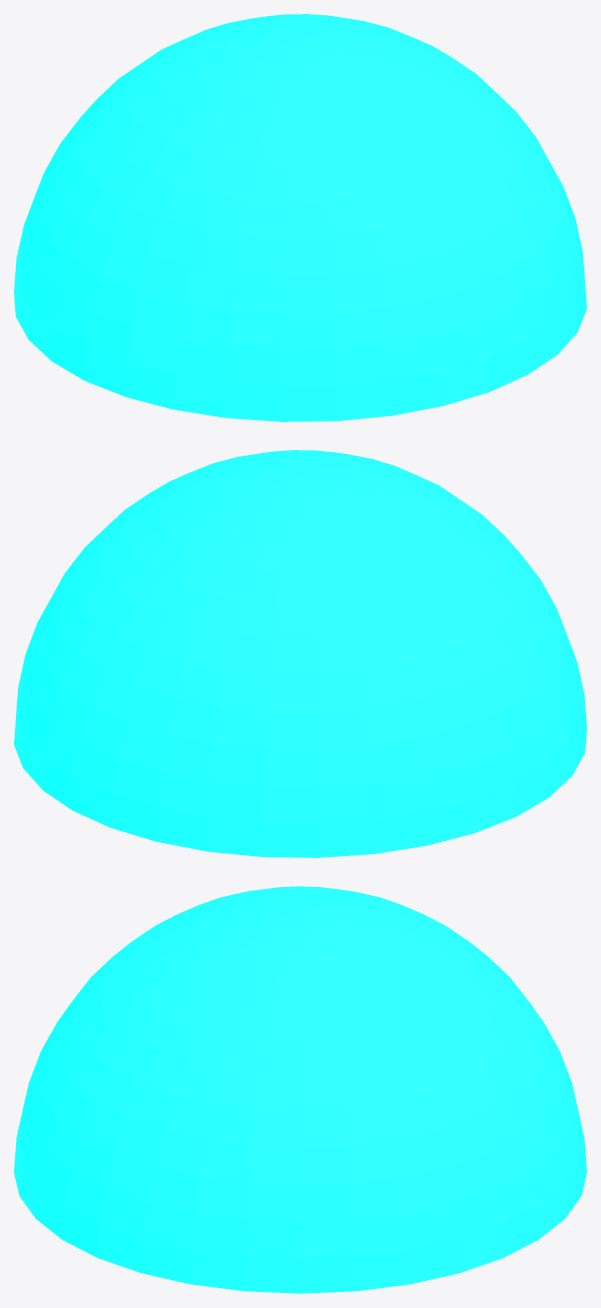
Rendered from shield_dome.glb.
3 views of the same model, one above another, from view 1: azimuth 30°, elevation 25°; view 2: azimuth 150°, elevation 25°; view 3: azimuth 270°, elevation 25° (orthographic).
Parts seen in each view (by area): view 1: Reusable cyan energy shield dome; view 2: Reusable cyan energy shield dome; view 3: Reusable cyan energy shield dome.
Part boxes in pixels (x1,y1,x2,y2): Reusable cyan energy shield dome: (14,14,586,421); Reusable cyan energy shield dome: (14,450,586,857); Reusable cyan energy shield dome: (14,886,586,1293).
Bounding box in the file's own units: 2 × 1 × 2.
